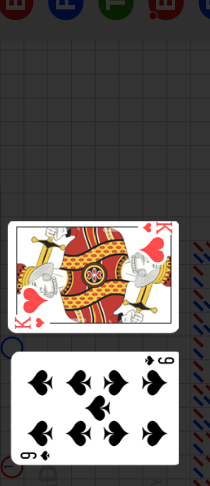9S: (142, 355, 175, 368)
KH: (140, 222, 174, 236)
